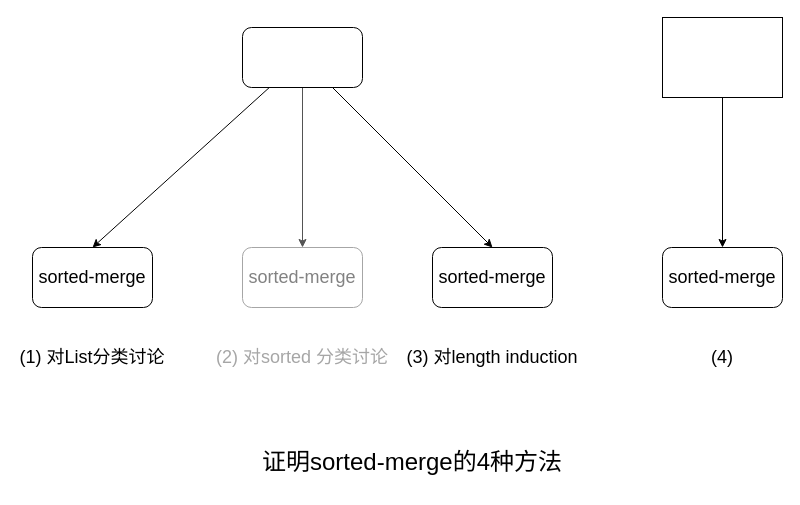
The diagram is 800 pixels wide and 505 high, and some of its shapes have lost their labels. The shapes that lost their labels are listed below. From the top down, each one's centre as x and y in pixels, then its label:
At (x=302, y=57): "sf-lemma".
At (x=722, y=57): "lemma3 lemma4".
